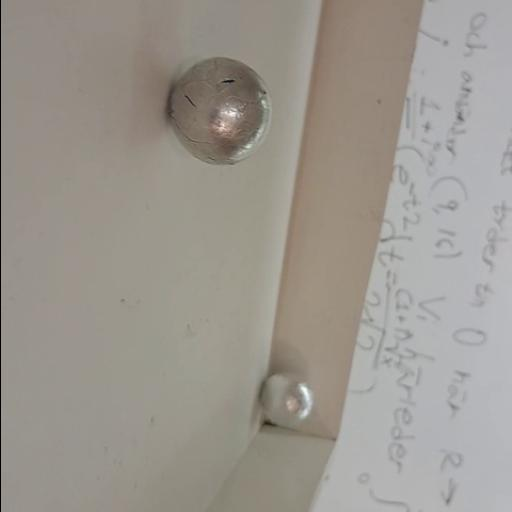alive: (167, 54, 273, 167), (258, 374, 314, 428)
